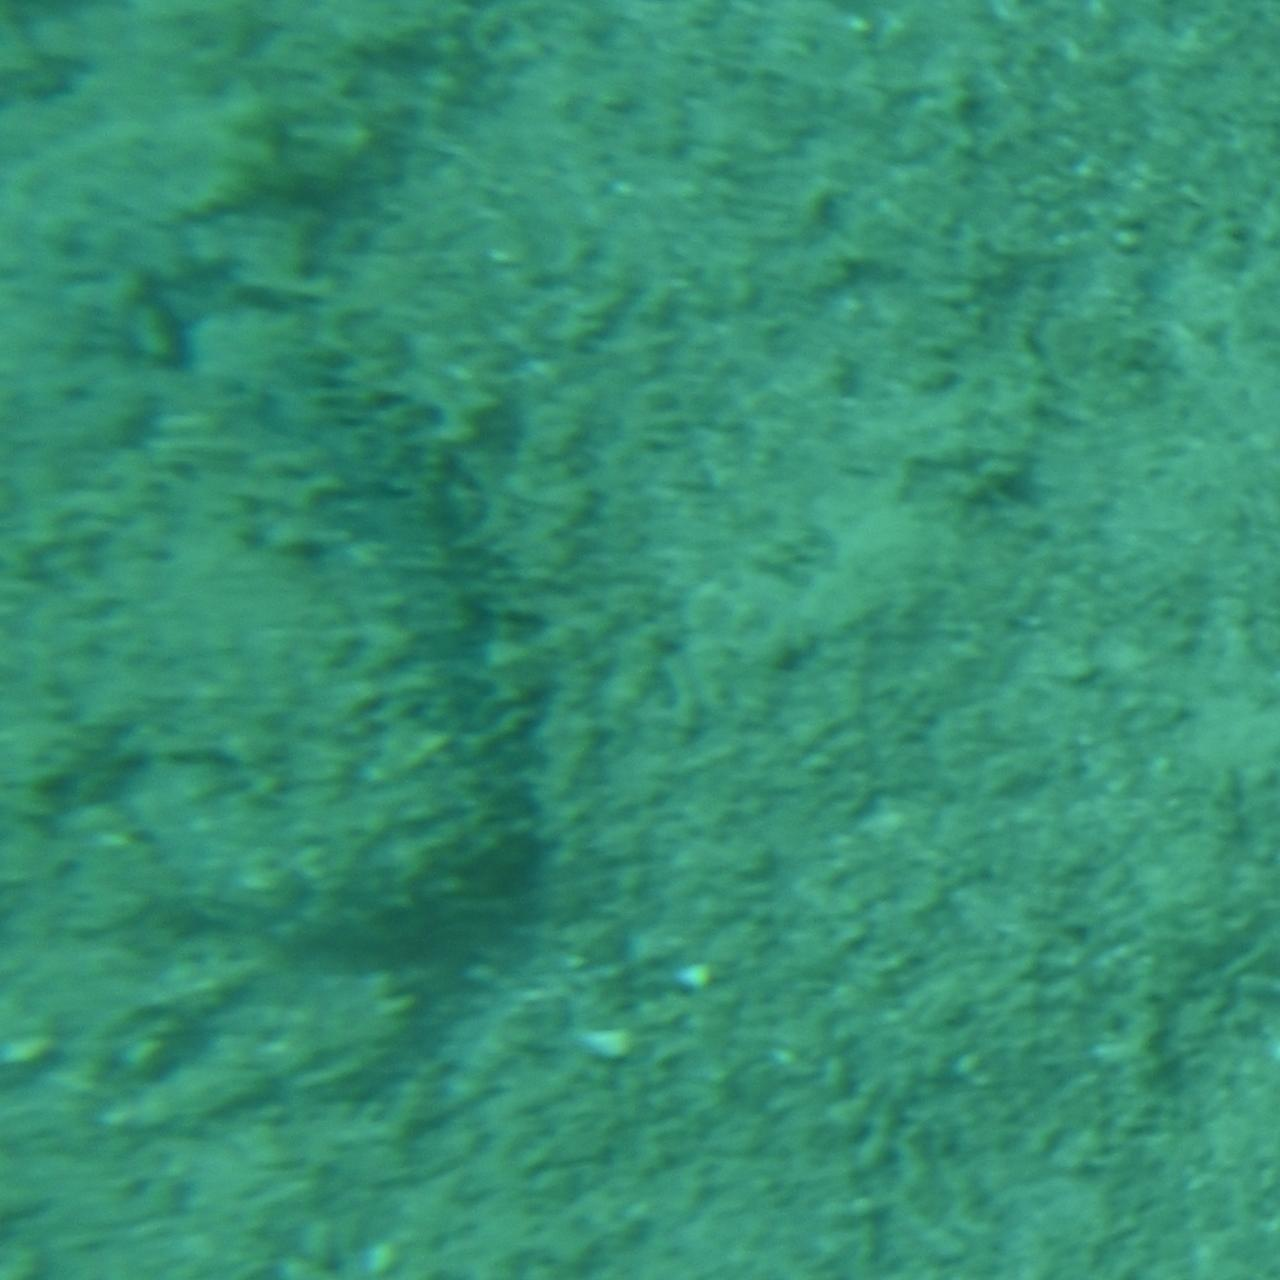Holothuria tubulosa: (149, 297, 550, 983)
